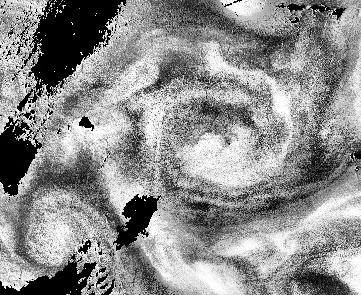AE: (121, 61, 296, 207)
CE: (11, 170, 108, 276)
